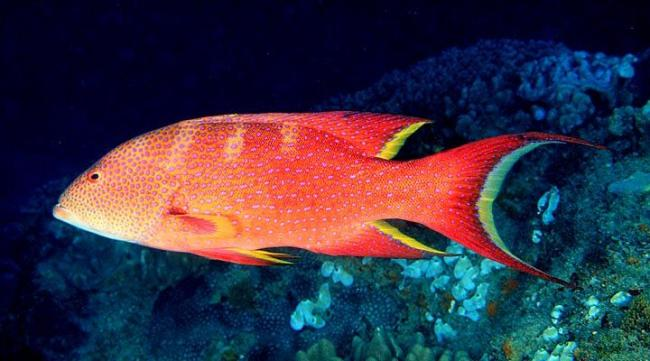fish: (51, 109, 610, 291)
